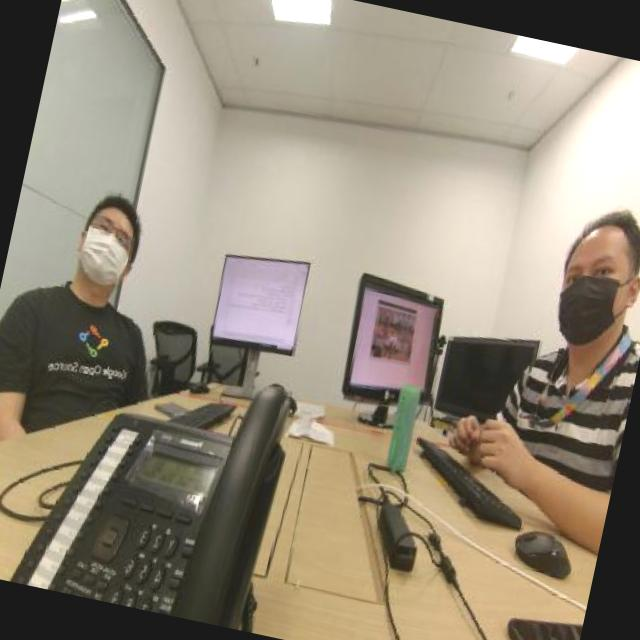Person: (0, 149, 177, 441), (503, 177, 640, 481)
